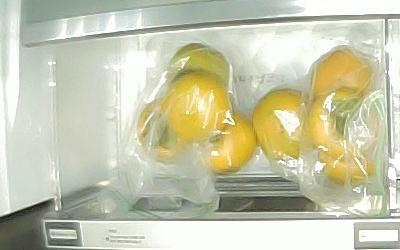persimmon_vinyl: (309, 88, 380, 159), (161, 69, 228, 142), (252, 89, 310, 161), (199, 112, 255, 174), (136, 98, 186, 161), (163, 43, 228, 89), (311, 48, 373, 96), (317, 149, 377, 189)
